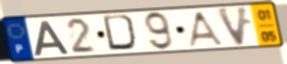2: (65, 17, 98, 55)
9: (143, 11, 175, 52)
A: (186, 10, 226, 49), (33, 20, 71, 57)
D: (101, 13, 141, 53)
V: (214, 6, 251, 48)
